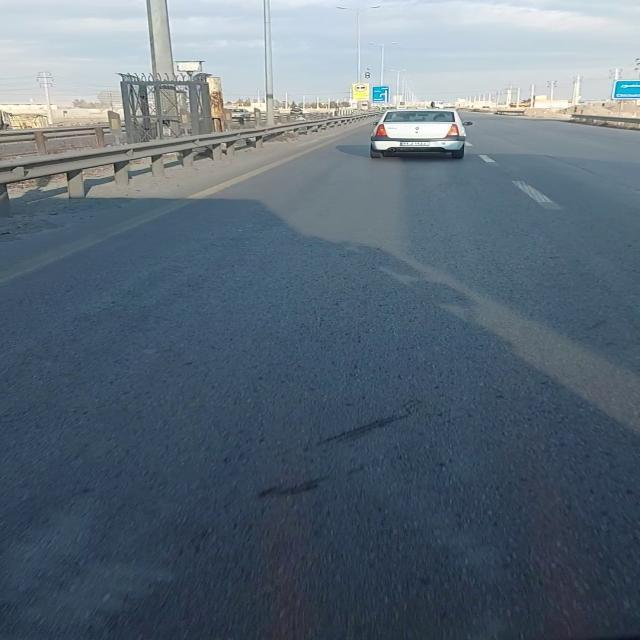Car: (368, 110, 474, 161)
